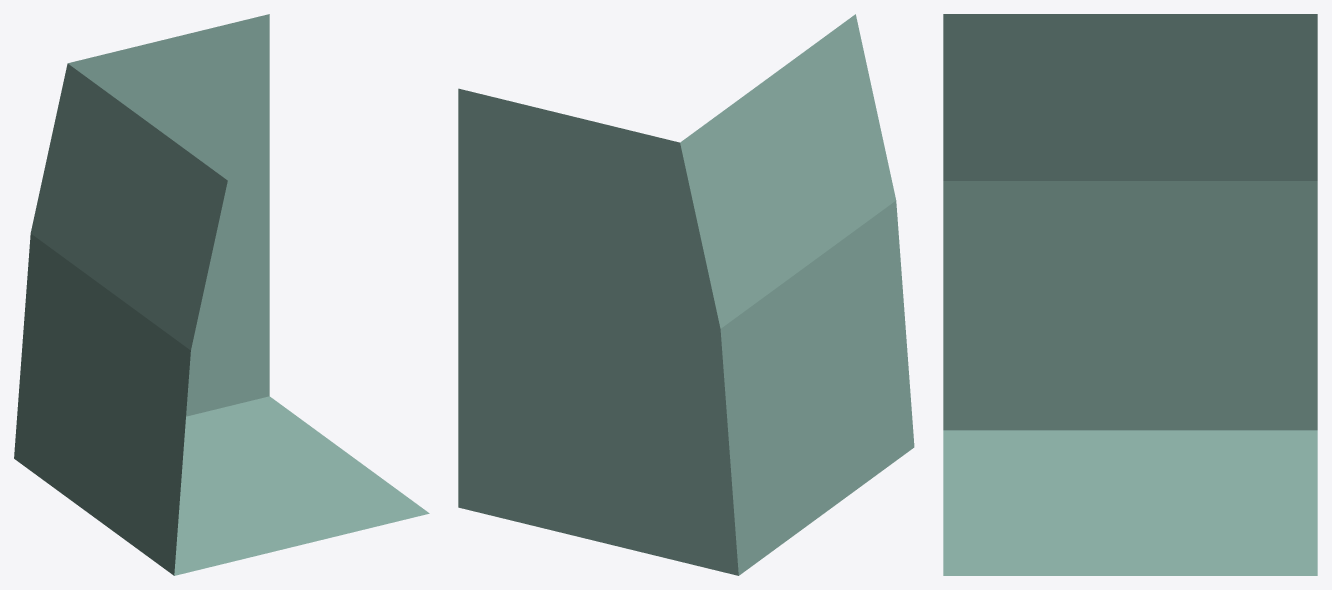
The model's file is cell_95.obj.
3 renders of one model, left to right at view 1: azimuth 30°, elevation 25°; view 2: azimuth 150°, elevation 25°; view 3: azimuth 270°, elevation 25°, orthographic. The views are drawn at different scales.
Size of the model in its own units: 0.35 by 0.5 by 0.38.
